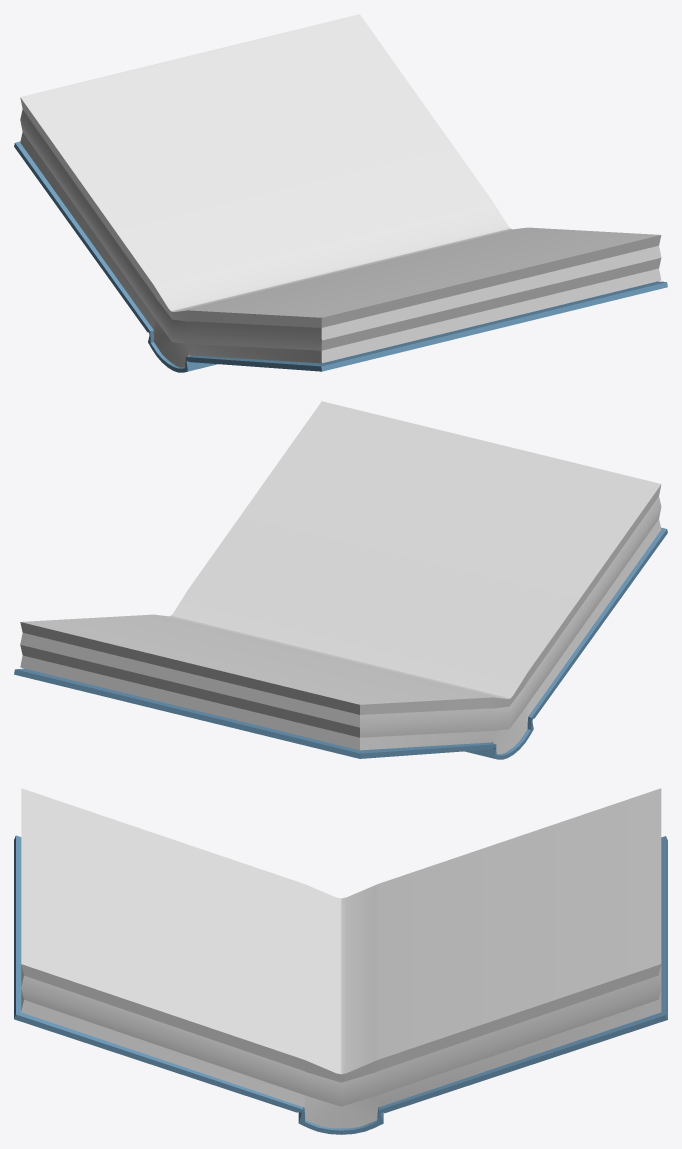
The model's file is Book v.2.fbx.
3 renders of one model, top to bottom at view 1: azimuth 30°, elevation 25°; view 2: azimuth 150°, elevation 25°; view 3: azimuth 270°, elevation 25°, orthographic. The views are drawn at different scales.
Visible parts, largest first — view 1: Cube.005, Cube.004; view 2: Cube.005, Cube.004; view 3: Cube.005, Cube.004.
Boxes of the visible parts, left/top/right/bottom form: Cube.005: left=20, top=14, right=661, bottom=367; Cube.004: left=14, top=141, right=667, bottom=372; Cube.005: left=20, top=401, right=661, bottom=754; Cube.004: left=14, top=527, right=667, bottom=759; Cube.005: left=21, top=788, right=661, bottom=1128; Cube.004: left=14, top=835, right=667, bottom=1134.
Size of the model in its own units: 263 by 116 by 405.
